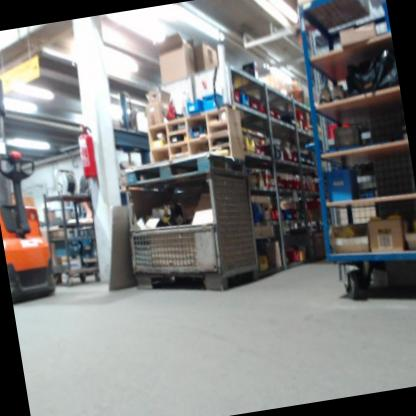pallet_truck: (0, 64, 61, 305)
small_load_carrier: (322, 158, 357, 206)
stillage: (115, 163, 265, 304)
